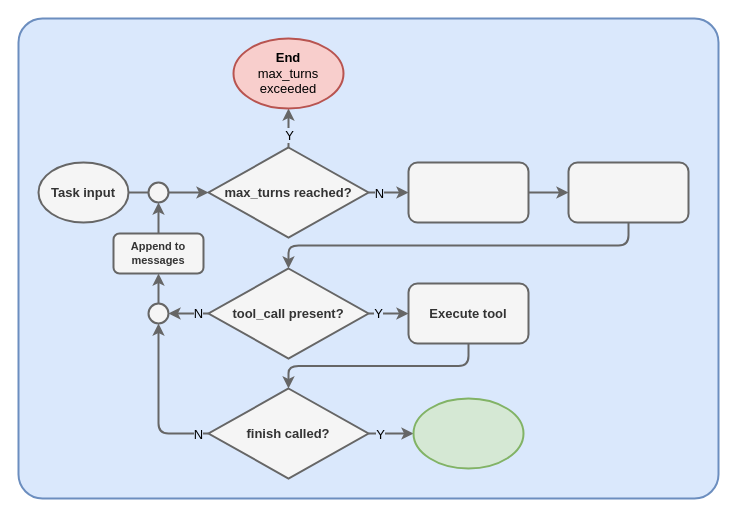
The diagram is 736 pixels wide and 516 high, and some of its shapes have lost their labels. The box of each missing label's shape, as (x1, y1, x2, y2) in pixels:
Call model: (407, 161, 529, 223)
End submitted: (412, 397, 524, 469)
Receive response: (567, 161, 689, 223)
